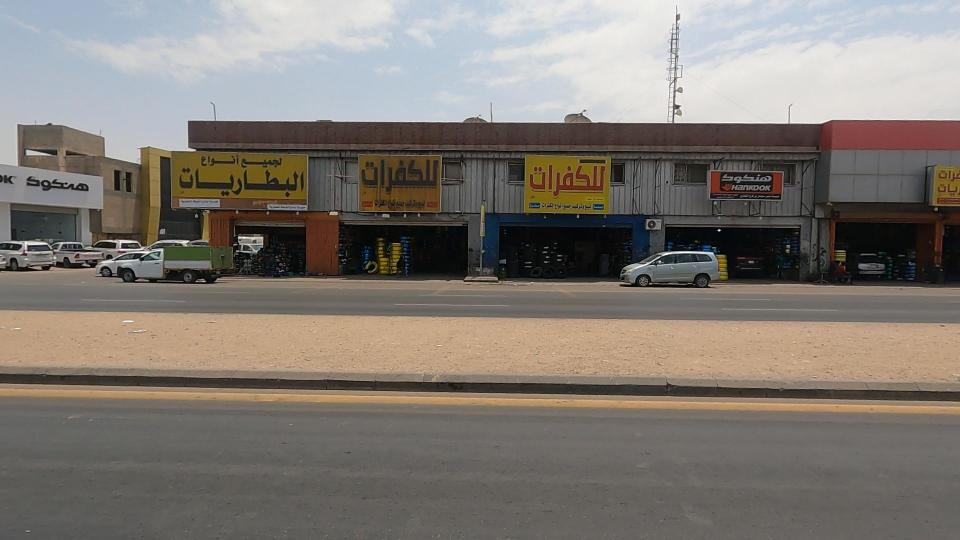BAD_BILLBOARD: (322, 124, 476, 244)
CLUTTER_SIDEWALK: (162, 289, 762, 423), (555, 291, 944, 398), (27, 289, 331, 407)
GARBAGE: (97, 289, 233, 360)
